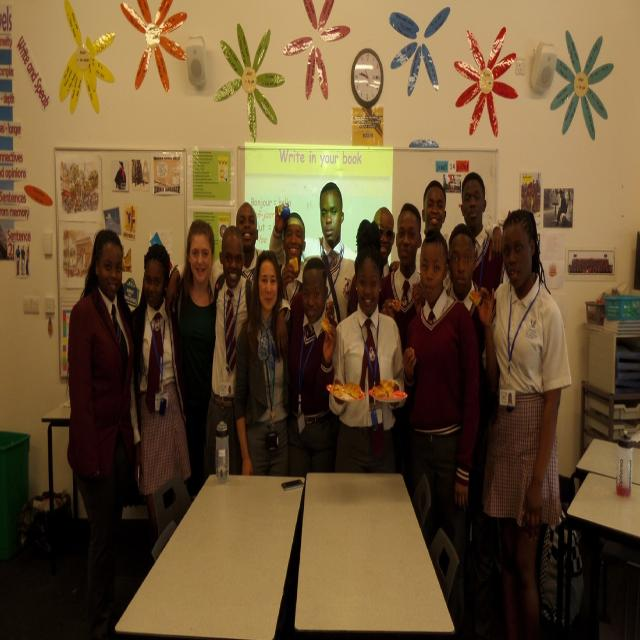body: (467, 202, 573, 639), (163, 223, 291, 477), (401, 227, 480, 635), (64, 227, 140, 639), (232, 248, 338, 478), (327, 217, 408, 475), (128, 241, 195, 547), (268, 180, 401, 326), (169, 218, 217, 497), (288, 256, 337, 474), (376, 202, 424, 338), (209, 199, 266, 300), (346, 206, 396, 317), (458, 170, 494, 292), (445, 220, 482, 323), (415, 178, 450, 276), (278, 211, 306, 307), (58, 156, 99, 214), (519, 177, 541, 218), (13, 240, 31, 280), (551, 189, 568, 228), (110, 156, 128, 189), (131, 158, 148, 186)
